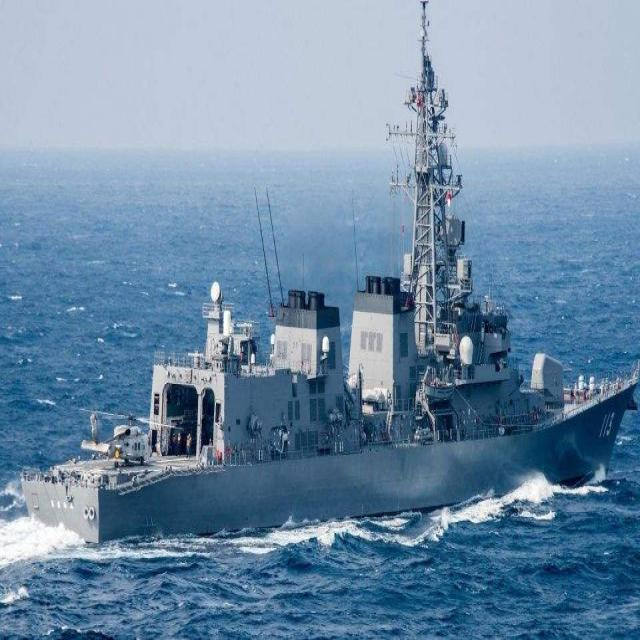navalvessels: (23, 17, 640, 557)
